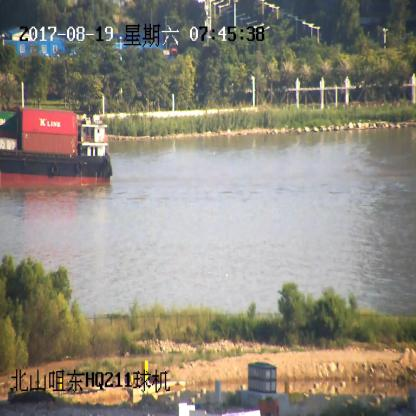Container Ship: (0, 106, 112, 186)
